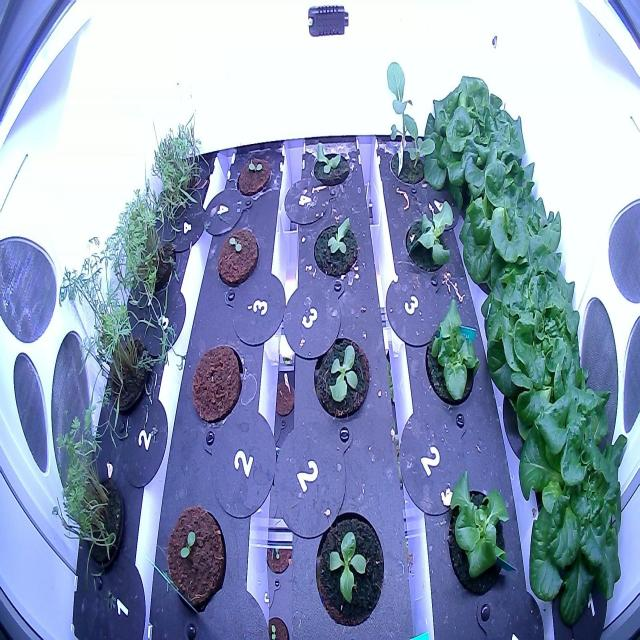germination: (164, 500, 229, 619), (214, 222, 261, 291), (232, 148, 274, 202)
pod: (187, 340, 245, 427)
young: (309, 492, 387, 635), (310, 328, 373, 433), (307, 206, 362, 282), (307, 136, 356, 198)
